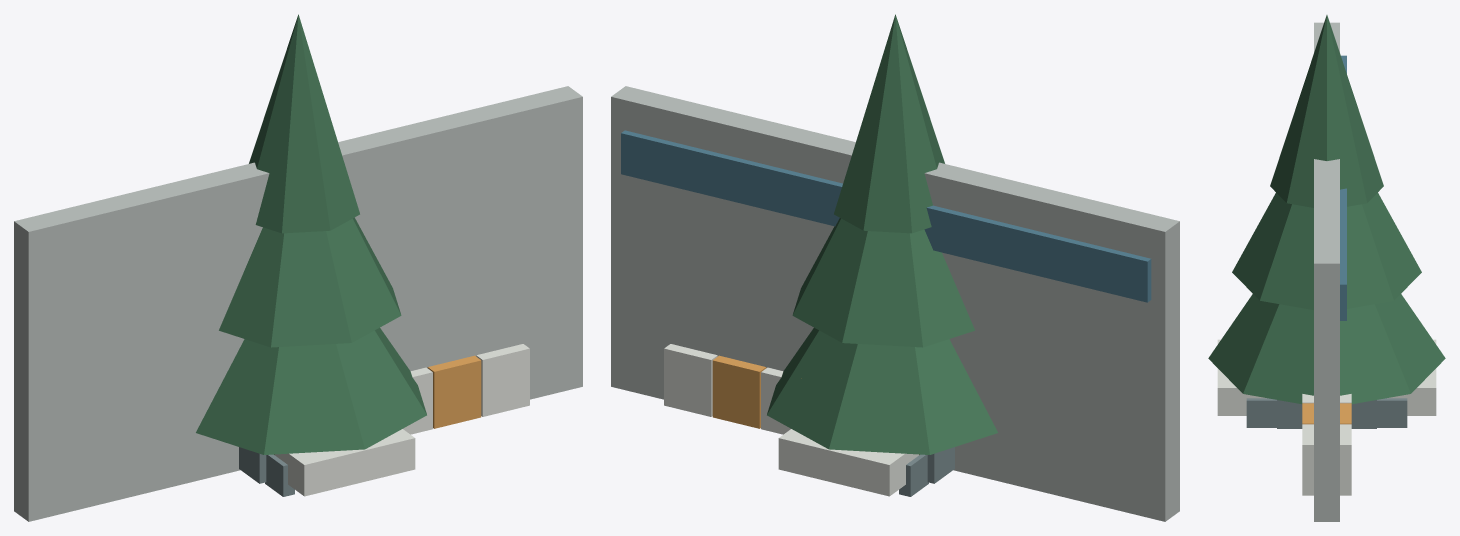
File: world-props.glb
3 renders of one model, left to right at view 1: azimuth 30°, elevation 25°; view 2: azimuth 150°, elevation 25°; view 3: azimuth 270°, elevation 25°, orthographic. The views are drawn at different scales.
Visible parts, largest first — view 1: hangar_wall, pine, barricade, service_cart, industrial_vent; view 2: hangar_wall, pine, barricade, service_cart, industrial_vent; view 3: pine, hangar_wall, service_cart, barricade, industrial_vent.
Part boxes in pixels (box(x1,y1,x2,y2)): hangar_wall: box(14, 86, 582, 521); pine: box(196, 14, 426, 454); barricade: box(403, 344, 529, 434); service_cart: box(265, 429, 415, 496); industrial_vent: box(239, 447, 266, 483); hangar_wall: box(611, 86, 1179, 521); pine: box(767, 14, 997, 454); barricade: box(664, 344, 790, 434); service_cart: box(778, 378, 928, 496); industrial_vent: box(927, 447, 954, 483); pine: box(1208, 15, 1445, 404); hangar_wall: box(1314, 22, 1346, 521); service_cart: box(1217, 339, 1436, 427); barricade: box(1302, 394, 1351, 495); industrial_vent: box(1277, 400, 1376, 428).
Bounding box in the file's own units: 12 × 9.02 × 5.
